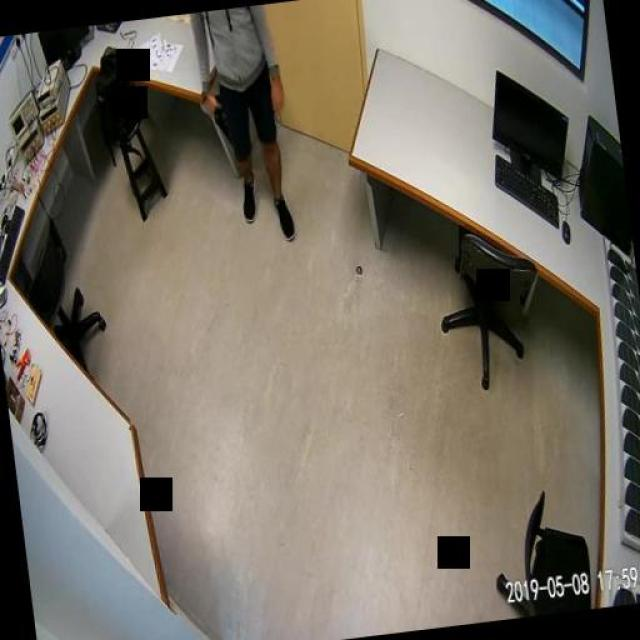gun: (210, 92, 231, 138)
